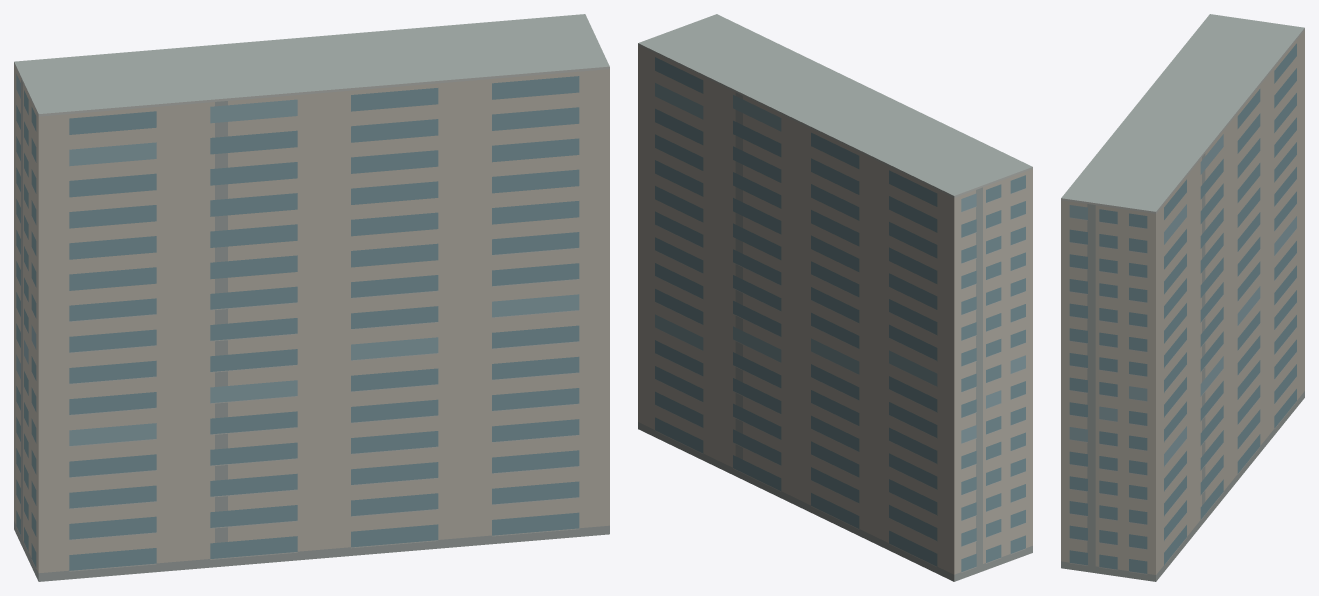
Rendered from residential-557366f1-060d-410e-99d3-d4274c43b4ed.glb.
The picture shows the model from 3 angles, left to right: view 1: azimuth 30°, elevation 25°; view 2: azimuth 150°, elevation 25°; view 3: azimuth 270°, elevation 25°; orthographic projection. The views are drawn at different scales.
Visible parts, largest first — view 1: residential-557366f1-060d-410e-99d3-d4274c43b4ed.tmp; view 2: residential-557366f1-060d-410e-99d3-d4274c43b4ed.tmp; view 3: residential-557366f1-060d-410e-99d3-d4274c43b4ed.tmp.
Part boxes in pixels (box(x1,y1,x2,y2)): residential-557366f1-060d-410e-99d3-d4274c43b4ed.tmp: box(14, 14, 609, 581); residential-557366f1-060d-410e-99d3-d4274c43b4ed.tmp: box(638, 14, 1032, 581); residential-557366f1-060d-410e-99d3-d4274c43b4ed.tmp: box(1061, 14, 1304, 581).
Size of the model in its own units: 52.76 by 46 by 27.47.
